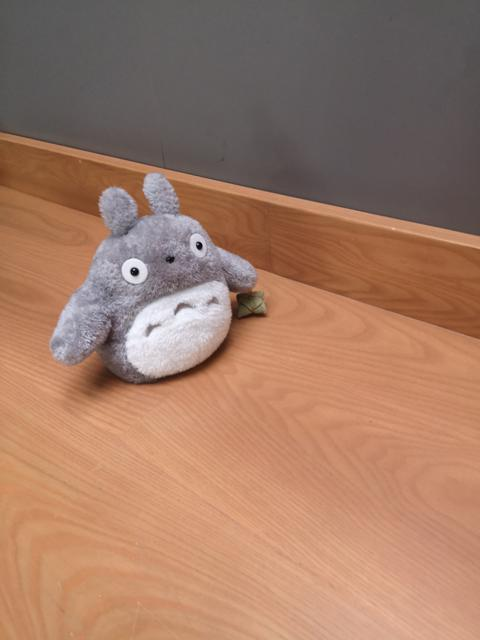totoro: (45, 170, 272, 389)
